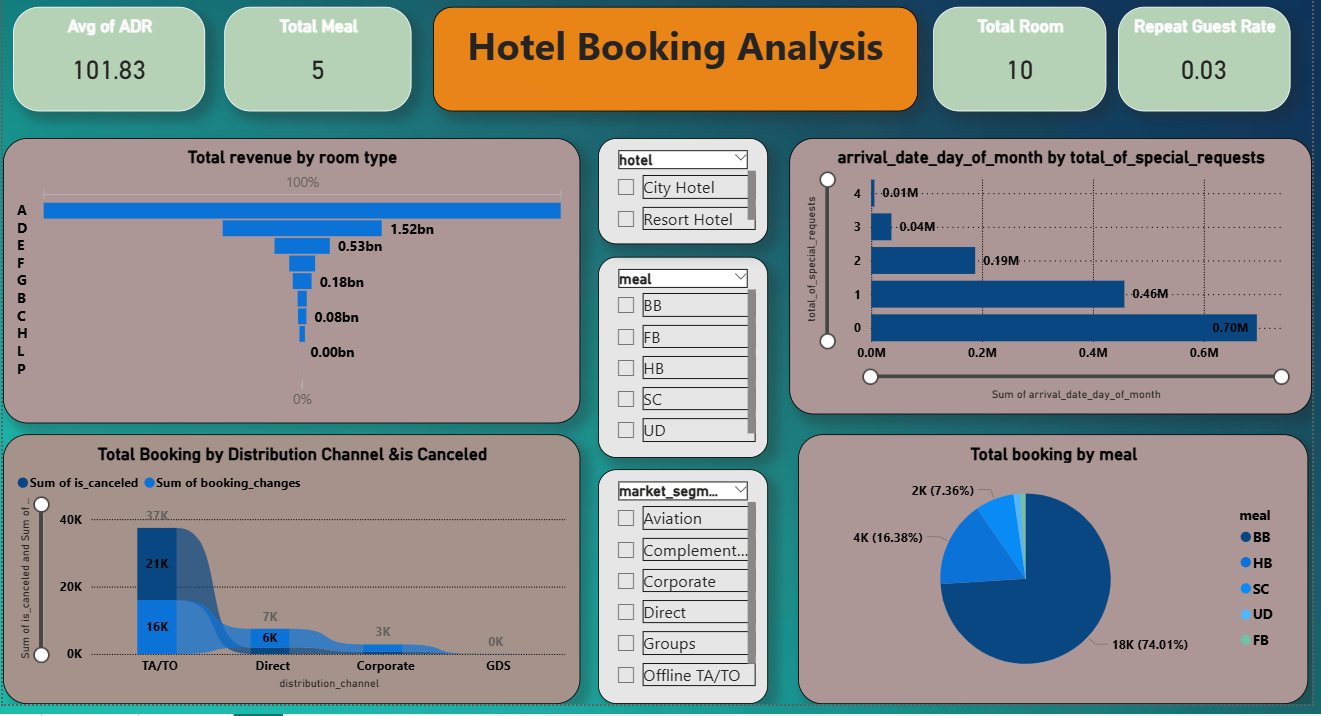

This screenshot's page, from the dashboard's own definition file:
{"tool":"powerbi","page":{"name":"Page 2","canvas":[1280,720],"ordinal":1},"visuals":[{"type":"funnel","title":" Total revenue by room type","fields":{"Category":["Hotel Bookings (1).reserved_room_type"],"Y":["Sum(Hotel Bookings (1).Total revenue)"]},"box":[0,166.3,564.9,278.8],"z":0},{"type":"ribbonChart","title":"Total Booking by Distribution Channel &is Canceled","fields":{"Category":["Hotel Bookings (1).distribution_channel"],"Y":["Sum(Hotel Bookings (1).is_canceled)","Sum(Hotel Bookings (1).booking_changes)"]},"box":[0,456.1,564.9,264.1],"z":1000},{"type":"pieChart","title":"Total booking by meal","fields":{"Y":["Sum(Hotel Bookings (1).booking_changes)"],"Category":["Hotel Bookings (1).meal"]},"box":[777.7,456.1,498.9,264.1],"z":2000},{"type":"slicer","fields":{"Values":["Hotel Bookings (1).meal"]},"box":[582.1,282.5,166.3,196.9],"z":3000},{"type":"card","title":"Total  Room","fields":{"Values":["Count(Hotel Bookings (1).reserved_room_type)"]},"box":[909.8,37.9,170,102.7],"z":4000},{"type":"slicer","fields":{"Values":["Hotel Bookings (1).market_segment"]},"box":[582.1,490.4,166.3,229.9],"z":5000},{"type":"card","title":"Total Meal","fields":{"Values":["Count(Hotel Bookings (1) (1).meal)"]},"box":[216.4,37.9,183.4,102.7],"z":6000},{"type":"barChart","title":"arrival_date_day_of_month by total_of_special_requests","fields":{"Category":["Hotel Bookings (1).total_of_special_requests"],"Y":["Sum(Hotel Bookings (1).arrival_date_day_of_month)"]},"box":[769.2,166.3,511.1,270.2],"z":7000},{"type":"textbox","box":[420.7,37.9,474.5,102.7],"z":8000},{"type":"card","title":"Avg of ADR","fields":{"Values":["Avg(Hotel Bookings (1) (1).adr)"]},"box":[9.8,37.9,188.3,102.7],"z":9000},{"type":"card","title":"Repeat Guest Rate","fields":{"Values":["Avg(Hotel Bookings (1) (1).is_repeated_guest)"]},"box":[1090.8,37.9,168.8,102.7],"z":10000},{"type":"slicer","fields":{"Values":["Hotel Bookings (1) (1).hotel"]},"box":[582.1,166.3,166.3,103.9],"z":11000}]}

Visuals, with their boxes in screenshot pixels (x1, y1, x2, y2):
" Total revenue by room type" funnel: crop(3, 135, 577, 418)
"Total Booking by Distribution Channel &is Canceled" ribbonChart: crop(3, 429, 577, 697)
"Total booking by meal" pieChart: crop(794, 429, 1301, 697)
slicer - Hotel Bookings (1).meal: crop(595, 253, 764, 453)
"Total  Room" card: crop(928, 4, 1101, 108)
slicer - Hotel Bookings (1).market_segment: crop(595, 464, 764, 697)
"Total Meal" card: crop(223, 4, 410, 108)
"arrival_date_day_of_month by total_of_special_requests" barChart: crop(785, 135, 1304, 409)
textbox: crop(431, 4, 913, 108)
"Avg of ADR" card: crop(13, 4, 205, 108)
"Repeat Guest Rate" card: crop(1112, 4, 1283, 108)
slicer - Hotel Bookings (1) (1).hotel: crop(595, 135, 764, 240)
